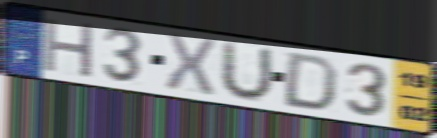3: (342, 61, 390, 119), (101, 27, 147, 85)
D: (280, 51, 342, 113)
H: (41, 15, 97, 80)
U: (217, 39, 275, 104)
X: (163, 30, 218, 98)
